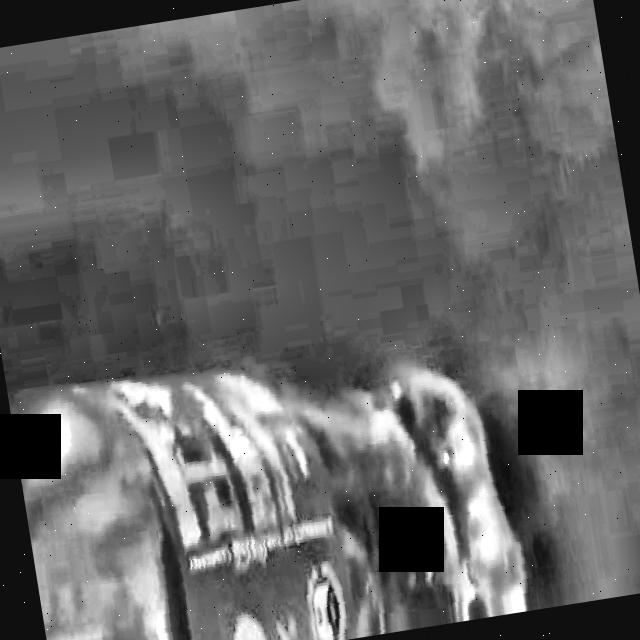bottle: (17, 364, 533, 640)
